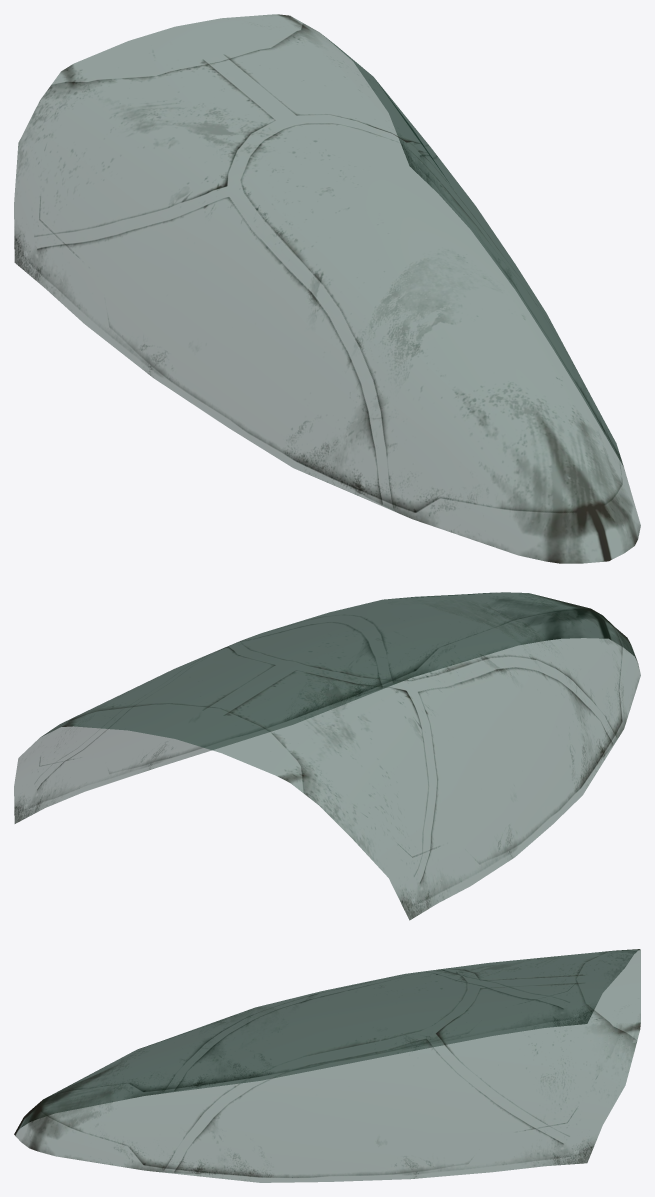
Rendered from drop_glass.glb.
3 renders of one model, top to bottom at view 1: azimuth 30°, elevation 25°; view 2: azimuth 150°, elevation 25°; view 3: azimuth 270°, elevation 25°, orthographic. The views are drawn at different scales.
Visible parts, largest first — view 1: drop_glass; view 2: drop_glass; view 3: drop_glass.
Part boxes in pixels (x1,y1,x2,y2): drop_glass: (14,14,640,563); drop_glass: (14,592,640,920); drop_glass: (14,949,640,1182).
Size of the model in its own units: 1.69 by 0.8931 by 3.21.
1 material, 1 textured.
